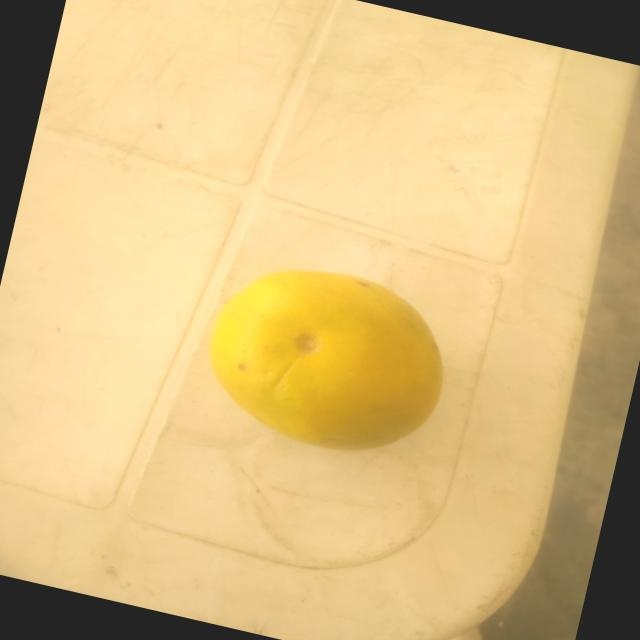agrume: (171, 233, 475, 486)
